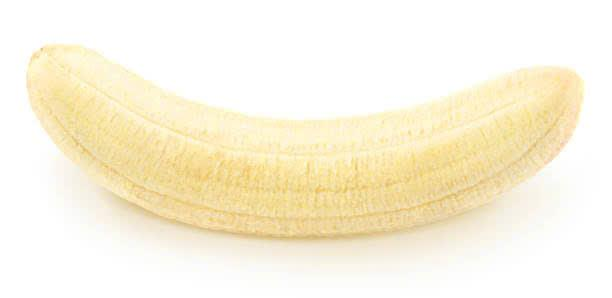banana: (21, 36, 583, 241)
